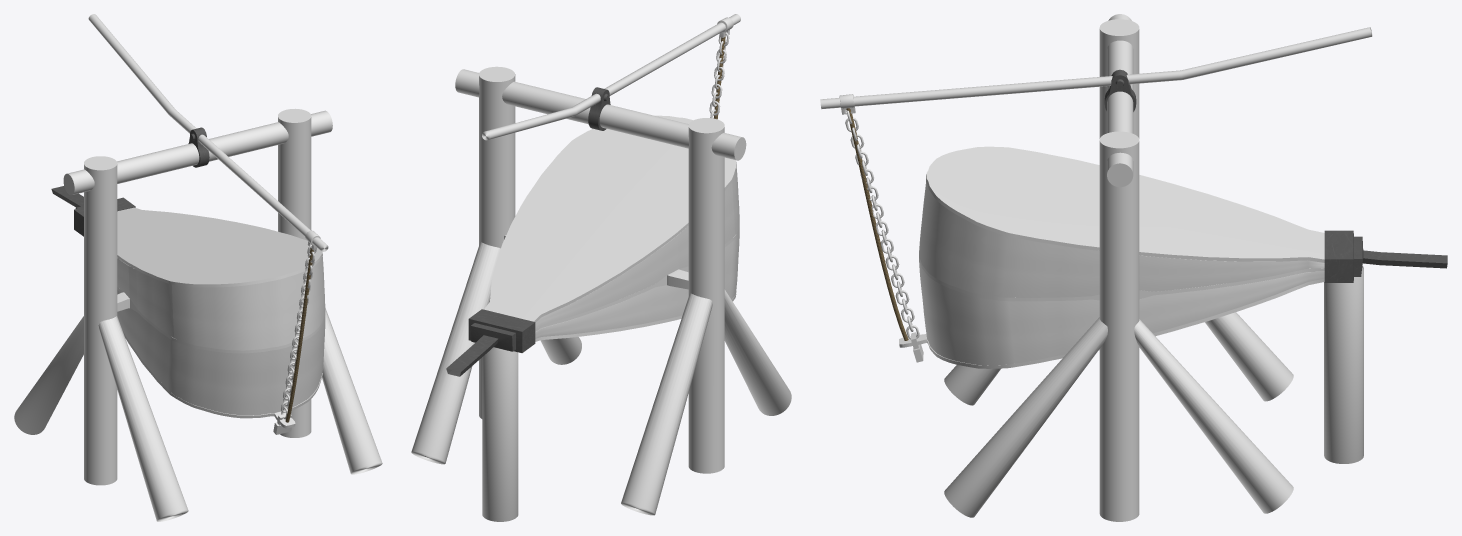
The model's file is blacksmithing_bellows.fbx.
3 renders of one model, left to right at view 1: azimuth 30°, elevation 25°; view 2: azimuth 150°, elevation 25°; view 3: azimuth 270°, elevation 25°, orthographic. The views are drawn at different scales.
Visible parts, largest first — view 1: Plane.001, Plane.003, Plane.004, Cylinder, Cylinder.002, Cylinder.006, Cylinder.003, Cylinder.005, Cylinder.001, Cylinder.010, Cylinder.011, Plane.002 (+4 smaller); view 2: Plane.001, Cylinder, Cylinder.001, Cylinder.007, Cylinder.003, Cylinder.004, Cylinder.006, Plane.003, Plane.004, Cylinder.002, Cube, Cylinder.010 (+5 smaller); view 3: Plane.001, Plane.003, Plane.004, Cylinder.003, Cylinder.007, Cylinder.005, Cylinder.004, Cylinder.010, Cylinder.001, Cube, Cylinder.006, Cylinder.011 (+5 smaller).
Part boxes in pixels (box(x1,y1,x2,y2)): Plane.001: box(117, 207, 322, 287); Plane.003: box(117, 256, 325, 350); Plane.004: box(117, 290, 325, 415); Cylinder: box(84, 156, 117, 485); Cylinder.002: box(98, 316, 188, 521); Cylinder.006: box(63, 110, 332, 195); Cylinder.003: box(278, 108, 311, 437); Cylinder.005: box(322, 308, 382, 474); Cylinder.001: box(14, 316, 83, 434); Cylinder.010: box(88, 14, 328, 251); Cylinder.011: box(273, 230, 320, 434); Plane.002: box(117, 262, 325, 353); Plane.001: box(484, 115, 736, 322); Cylinder: box(688, 118, 724, 473); Cylinder.001: box(621, 293, 712, 515); Cylinder.007: box(482, 347, 518, 521); Cylinder.003: box(479, 66, 515, 418); Cylinder.004: box(411, 242, 500, 464); Cylinder.006: box(455, 69, 746, 160); Plane.003: box(535, 167, 739, 328); Plane.004: box(535, 228, 739, 338); Cylinder.002: box(724, 289, 791, 415); Cube: box(446, 309, 535, 376); Cylinder.010: box(482, 14, 740, 140); Plane.001: box(926, 146, 1324, 262); Plane.003: box(919, 182, 1324, 297); Plane.004: box(919, 261, 1324, 365); Cylinder.003: box(1099, 131, 1139, 521); Cylinder.007: box(1324, 265, 1363, 463); Cylinder.005: box(944, 317, 1107, 517); Cylinder.004: box(1134, 319, 1293, 513); Cylinder.010: box(820, 27, 1372, 109); Cylinder.001: box(1205, 312, 1293, 401); Cube: box(1324, 230, 1447, 282); Cylinder.006: box(1107, 14, 1133, 187); Cylinder.011: box(839, 94, 923, 362).
Bounding box in the file's own units: 137 × 184 × 243.
Materials: 17 (3 with a texture image).
